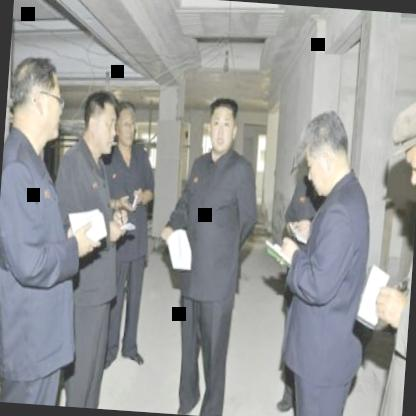head: (6, 50, 68, 154), (298, 105, 354, 202), (79, 86, 119, 160), (203, 90, 243, 156), (112, 99, 140, 153)
